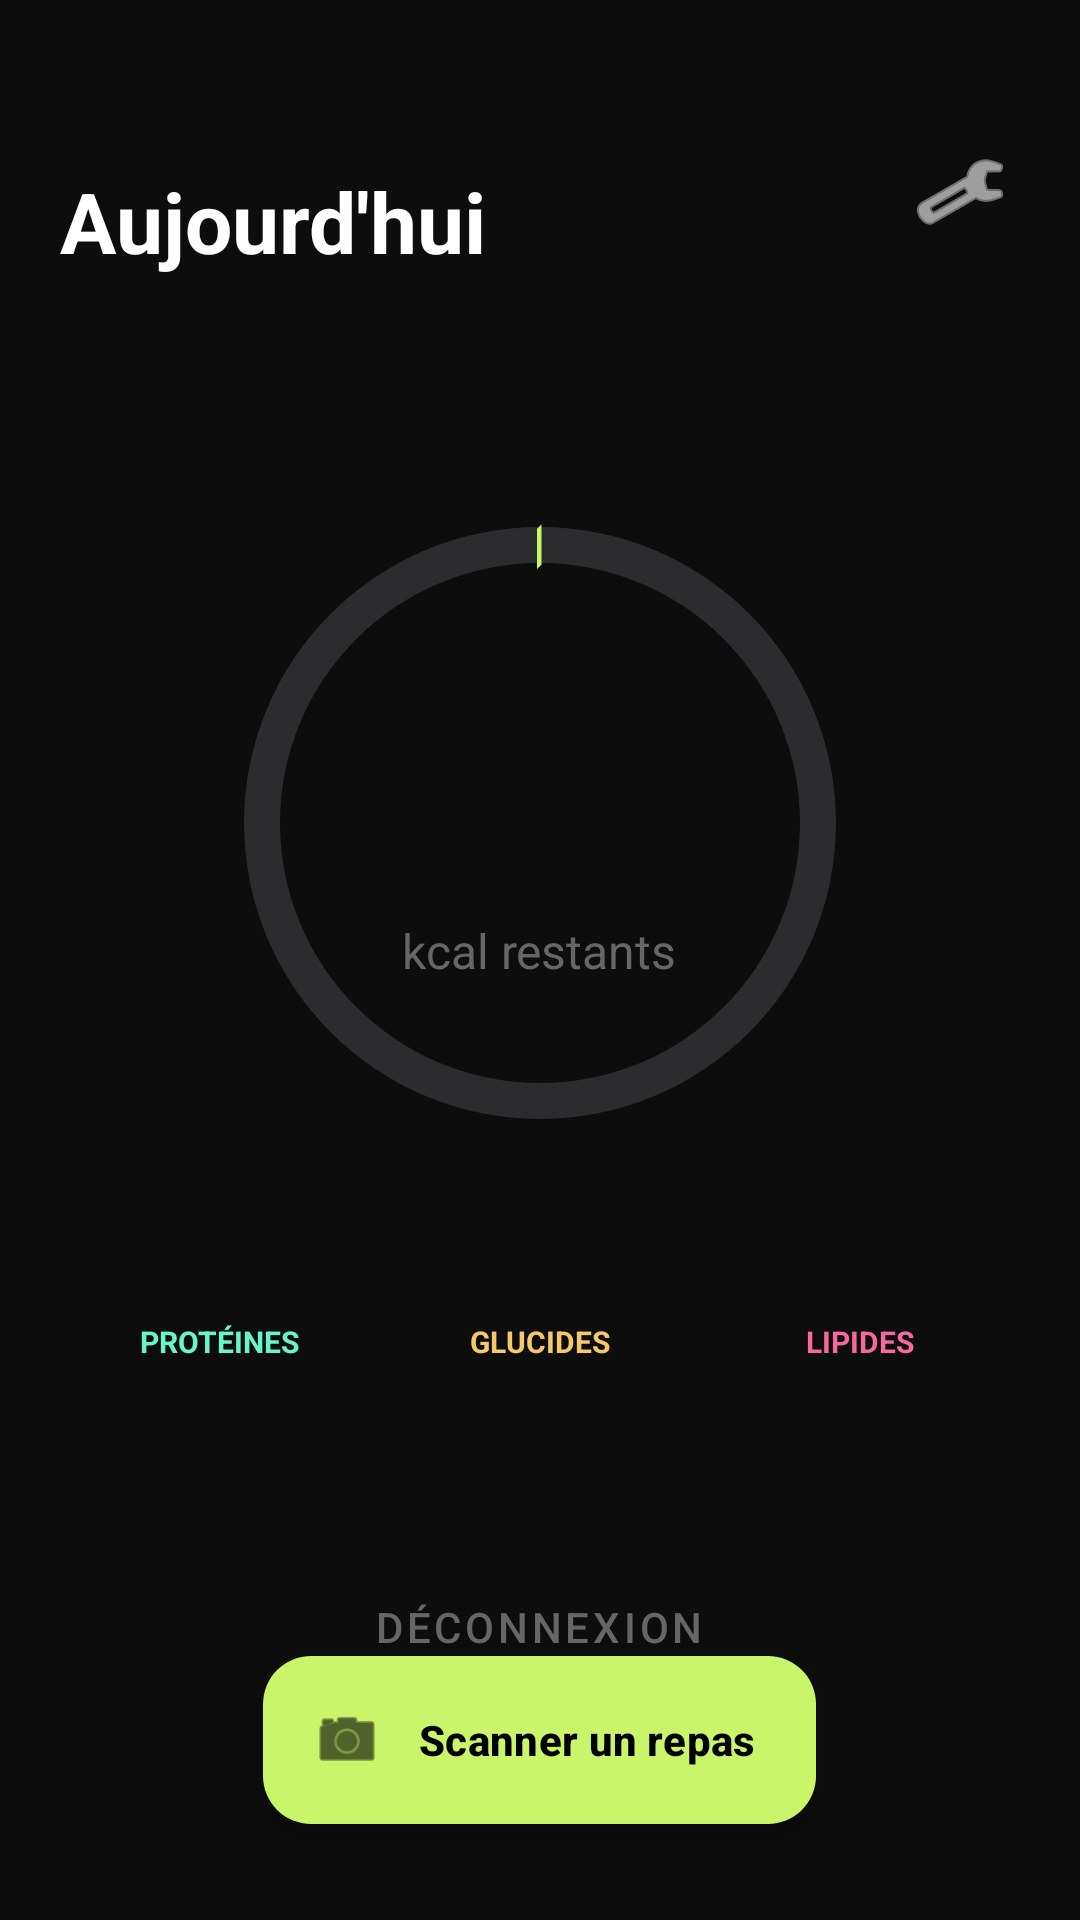

Screen size 1080x1920. Icon name, then its center in pixels as (x=x, y=y):
preferences: (x=960, y=192)
